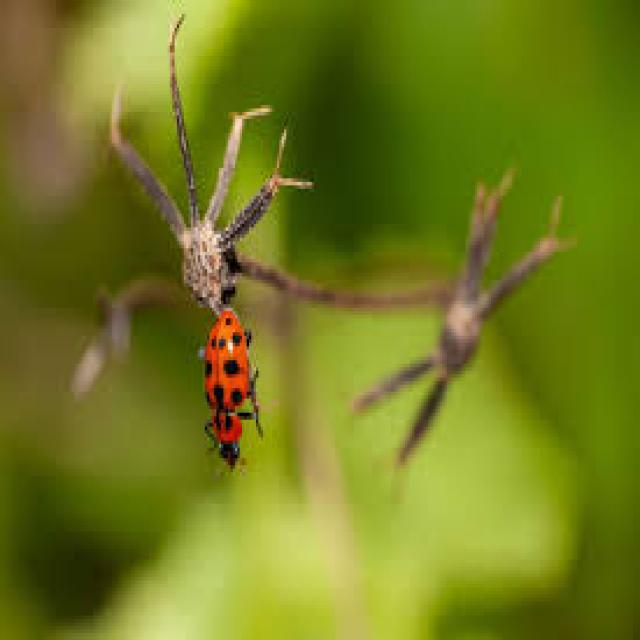bug: (196, 302, 267, 484)
